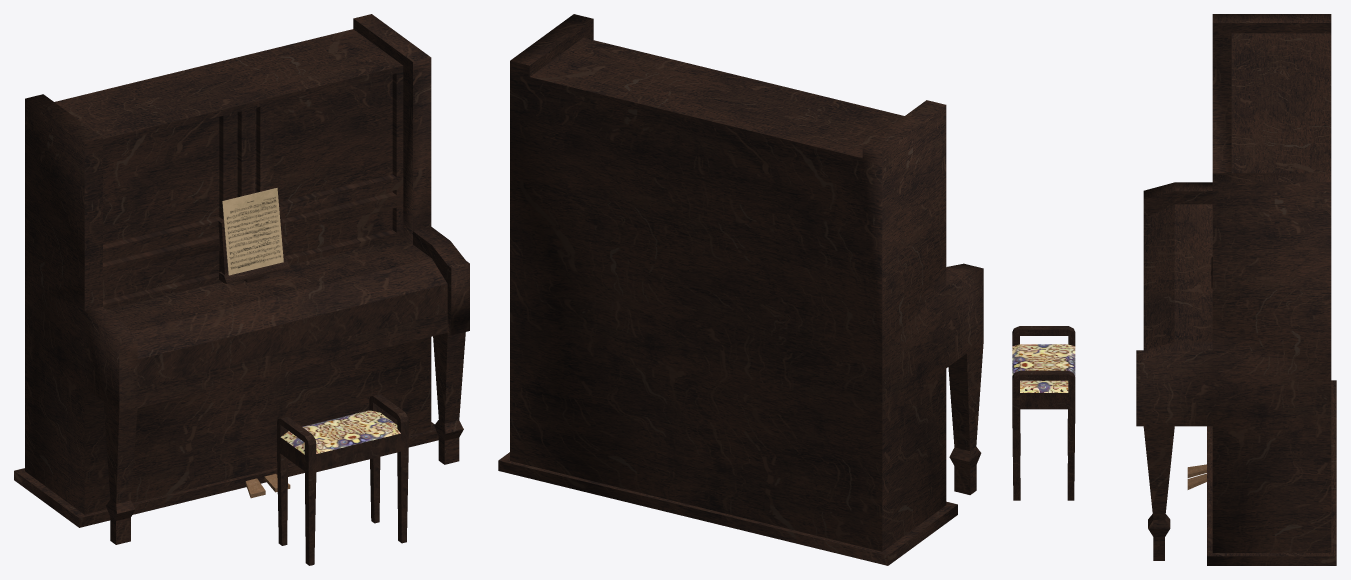
The model's file is piano set.glb.
3 renders of one model, left to right at view 1: azimuth 30°, elevation 25°; view 2: azimuth 150°, elevation 25°; view 3: azimuth 270°, elevation 25°, orthographic. The views are drawn at different scales.
Visible parts, largest first — view 1: piano, pianoStool, MusicSheet; view 2: piano; view 3: piano, pianoStool.
Boxes of the visible parts, x1=… form: piano: x1=14, y1=14, x2=469, y2=544; pianoStool: x1=277, y1=394, x2=408, y2=565; MusicSheet: x1=222, y1=188, x2=283, y2=275; piano: x1=498, y1=14, x2=983, y2=565; piano: x1=1136, y1=14, x2=1336, y2=565; pianoStool: x1=1012, y1=326, x2=1075, y2=500.
Size of the model in its own units: 1.13 by 1.15 by 0.8813.
4 materials, 4 textured.
